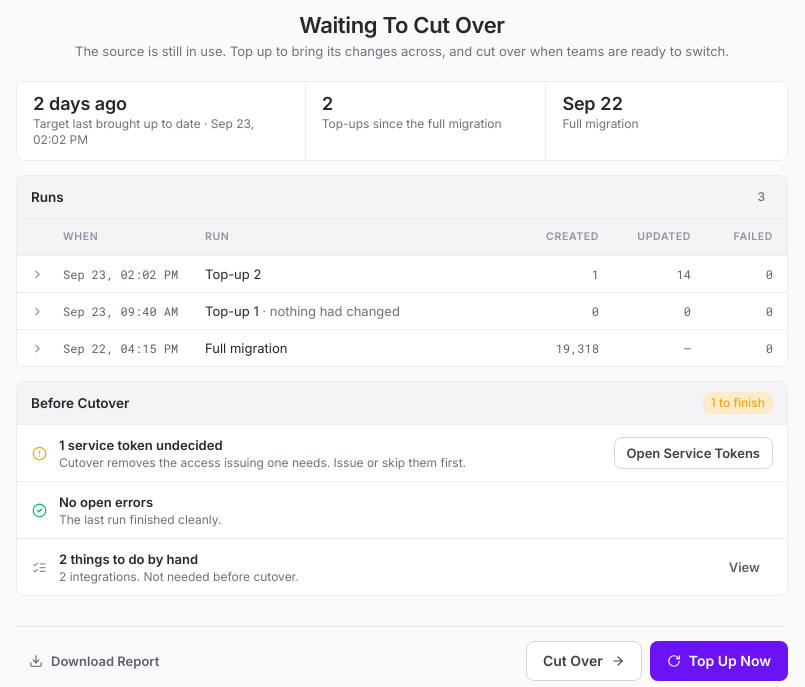
Test: StandbyPage › says when a run predates the record of changes
Click the button "Sep 22, 04:15 PM Full migration 19,318 — 0" at (121, 348), box [17,330,787,366]
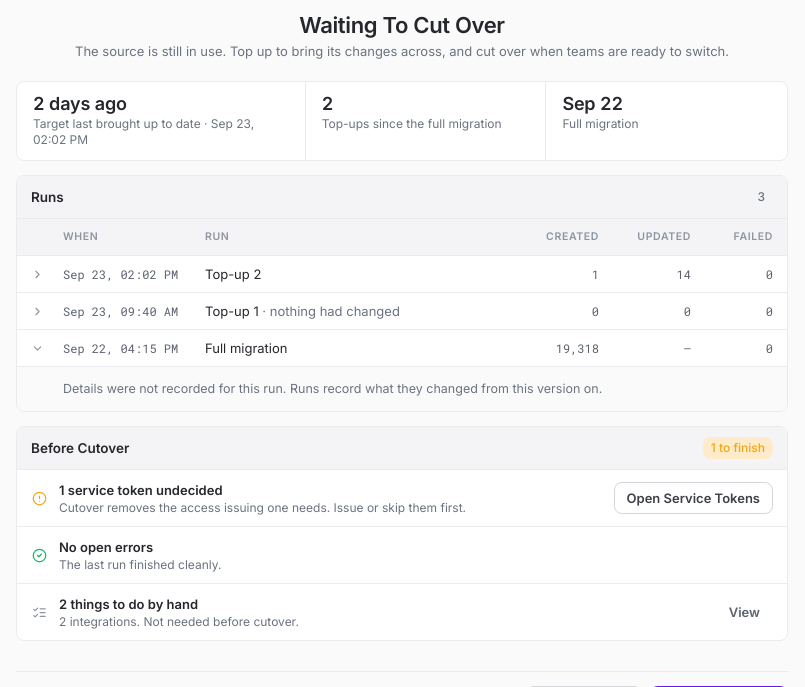
Now the text "Details were not recorded for this run" is shown, box [63,381,602,396]
